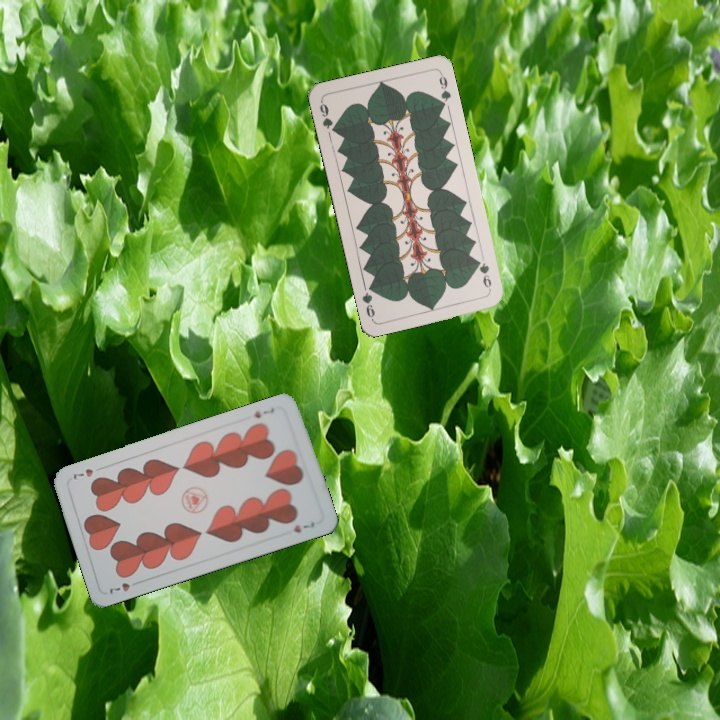G9: (315, 97, 339, 136), (473, 256, 494, 293)
H7: (105, 577, 143, 597), (250, 403, 277, 421)
